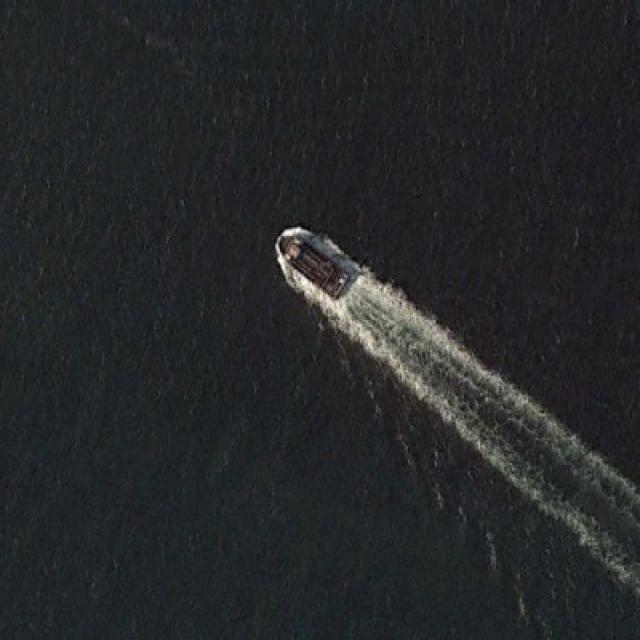boat: (274, 231, 355, 304)
